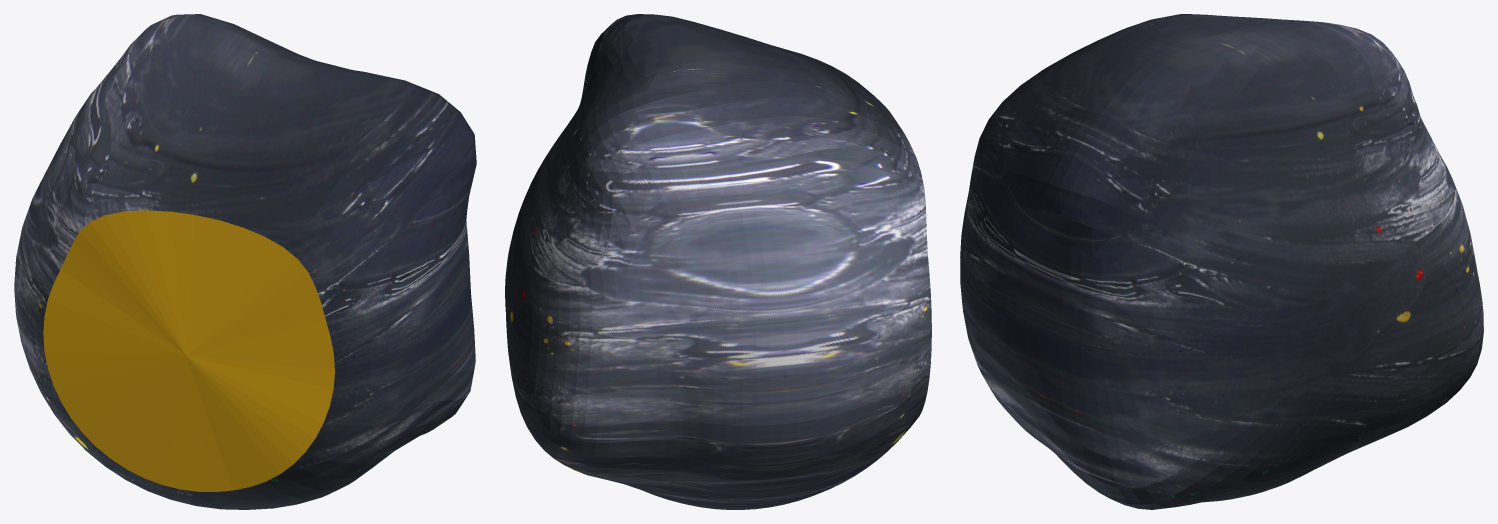
File: bored_emotion.glb
The picture shows the model from 3 angles, left to right: view 1: azimuth 30°, elevation 25°; view 2: azimuth 150°, elevation 25°; view 3: azimuth 270°, elevation 25°; orthographic projection. The views are drawn at different scales.
Parts seen in each view (by area): view 1: rouboredb; view 2: rouboredb; view 3: rouboredb.
Part boxes in pixels (bbox=[...]): rouboredb: bbox=[14, 14, 476, 509]; rouboredb: bbox=[505, 14, 931, 509]; rouboredb: bbox=[960, 14, 1483, 509].
Bounding box in the file's own units: 0.3674 × 0.368 × 0.3875.
2 materials, 2 textured.
